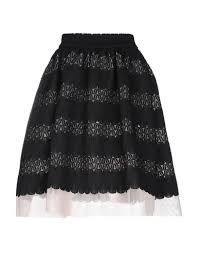C_skirt: (9, 31, 189, 235)
